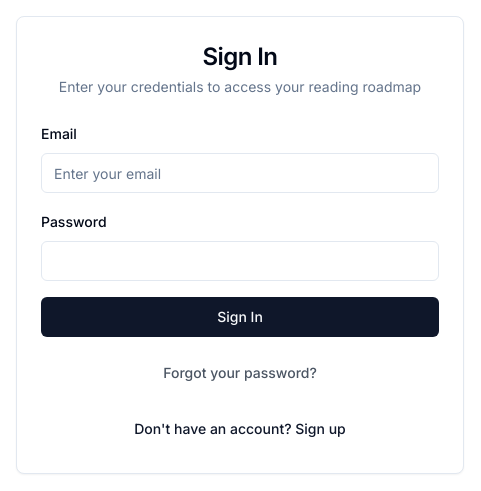
Scenario: AuthPage › switches to register form when clicked
Click the button "Don't have an account? Sign up".
click(240, 429)  # box [118,409,362,449]
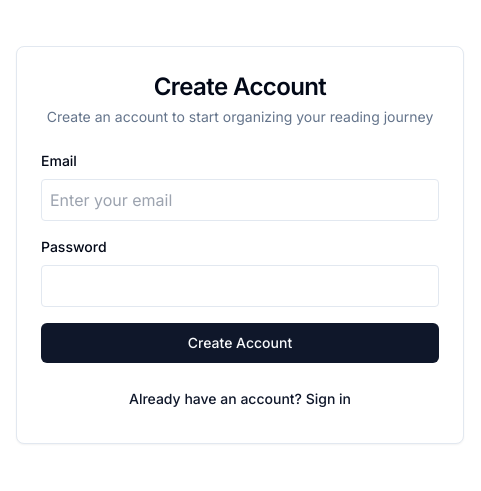
Expected: the heading "Create Account" is shown, [154,72,326,101]
Expected: the button "Create Account" is shown, [41,323,439,363]
